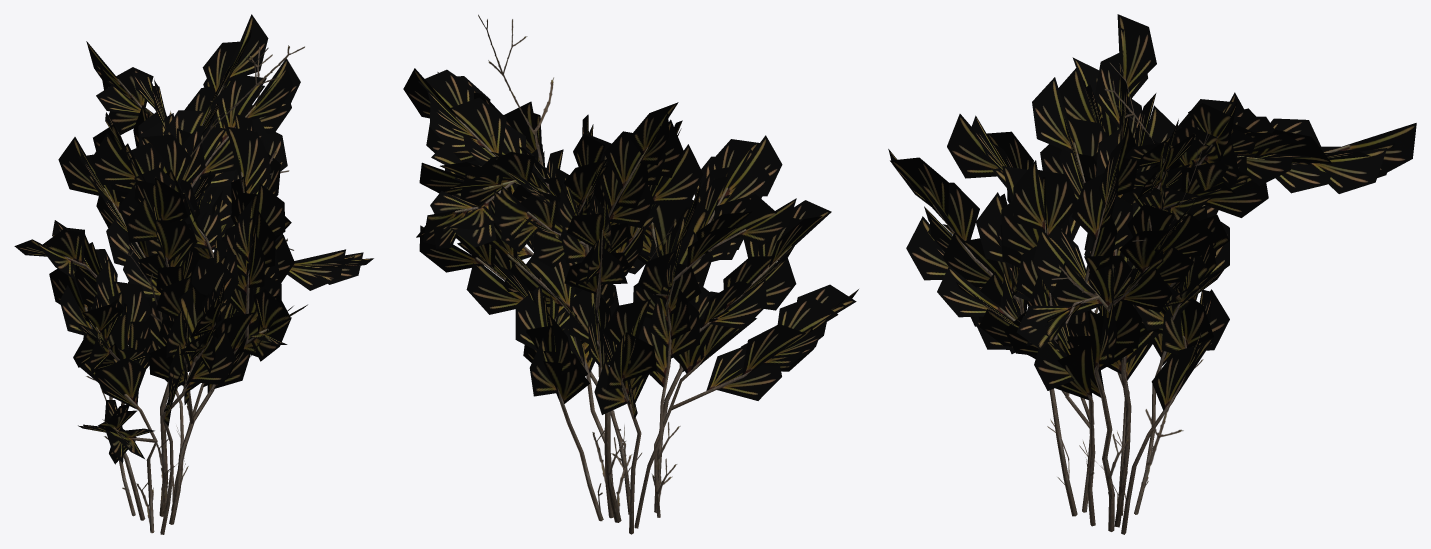
File: bush_d.glb
The picture shows the model from 3 angles, left to right: view 1: azimuth 30°, elevation 25°; view 2: azimuth 150°, elevation 25°; view 3: azimuth 270°, elevation 25°; orthographic projection. The views are drawn at different scales.
Visible parts, largest first — view 1: wild_rooibos_bush_d; view 2: wild_rooibos_bush_d; view 3: wild_rooibos_bush_d.
Boxes of the visible parts, x1,y1,x2,y2 form: wild_rooibos_bush_d: [14, 14, 373, 534]; wild_rooibos_bush_d: [403, 14, 858, 534]; wild_rooibos_bush_d: [888, 14, 1416, 534].
Size of the model in its own units: 0.3274 by 0.4199 by 0.3836.
Materials: 3 (3 with a texture image).
